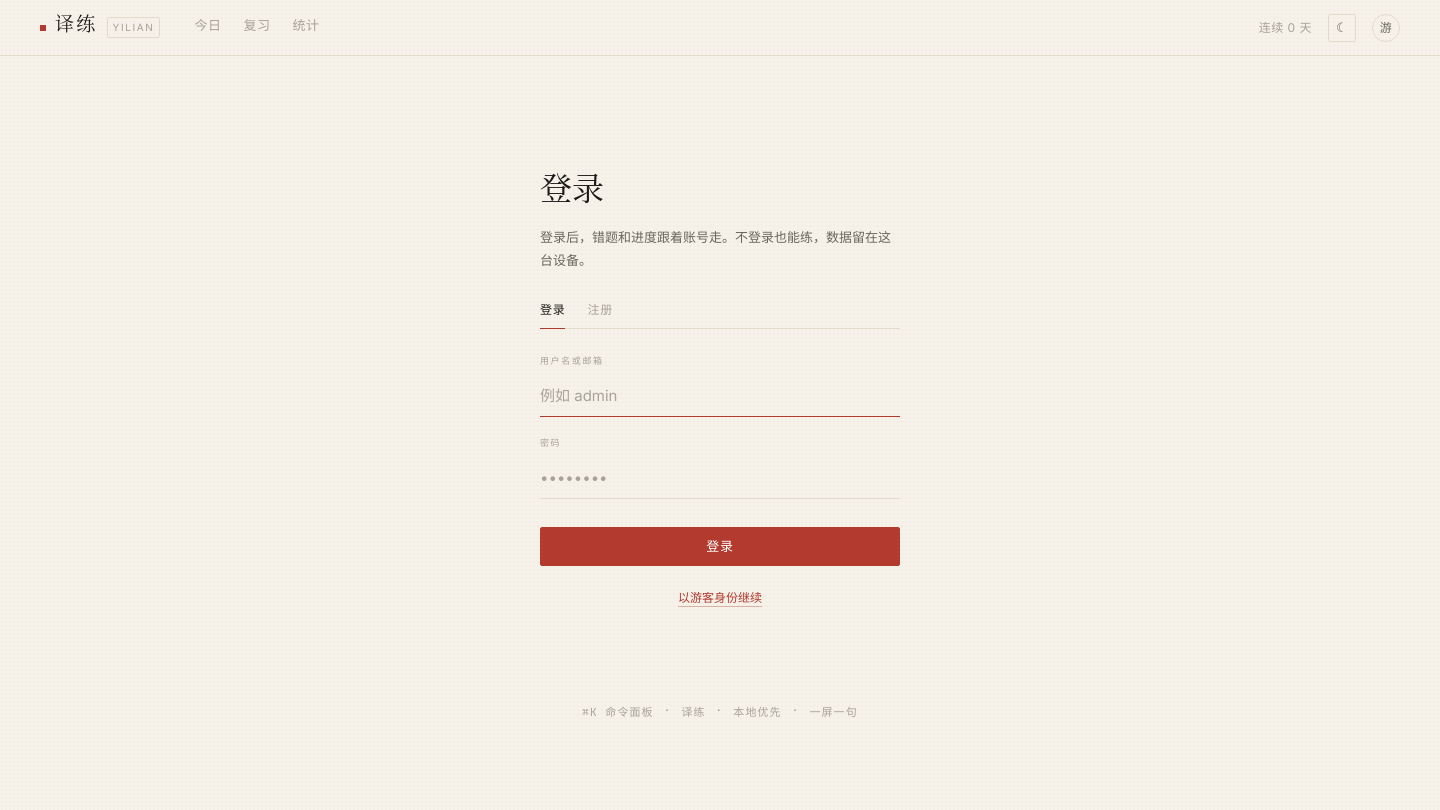
it: auth flow › shows the server message when login fails
Step 1. Type "admin" into the field labelled "用户名或邮箱" → (720, 397), box [540, 377, 900, 417]
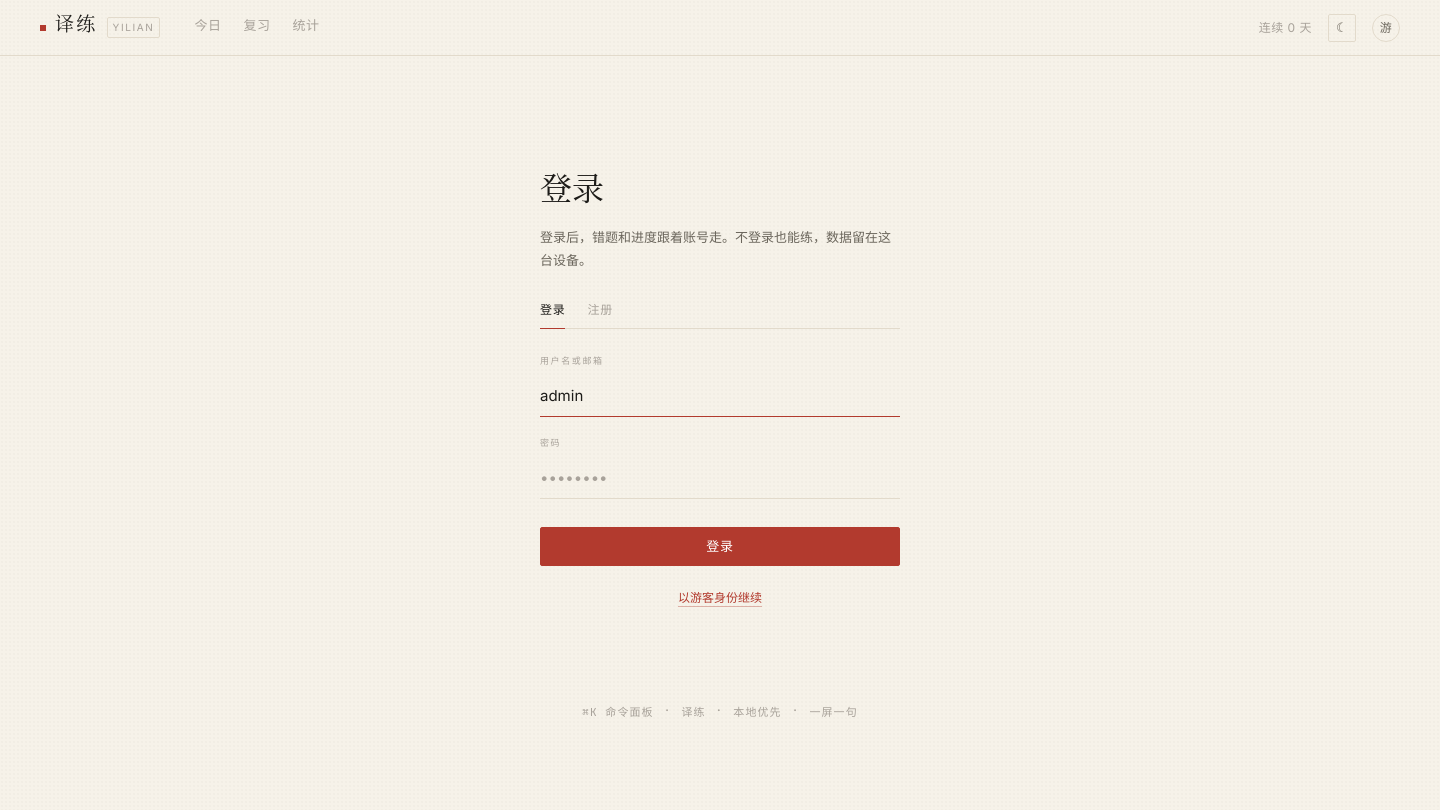
Step 2. Type "wrong-password" into the password field labelled "密码" → (720, 479), box [540, 459, 900, 499]
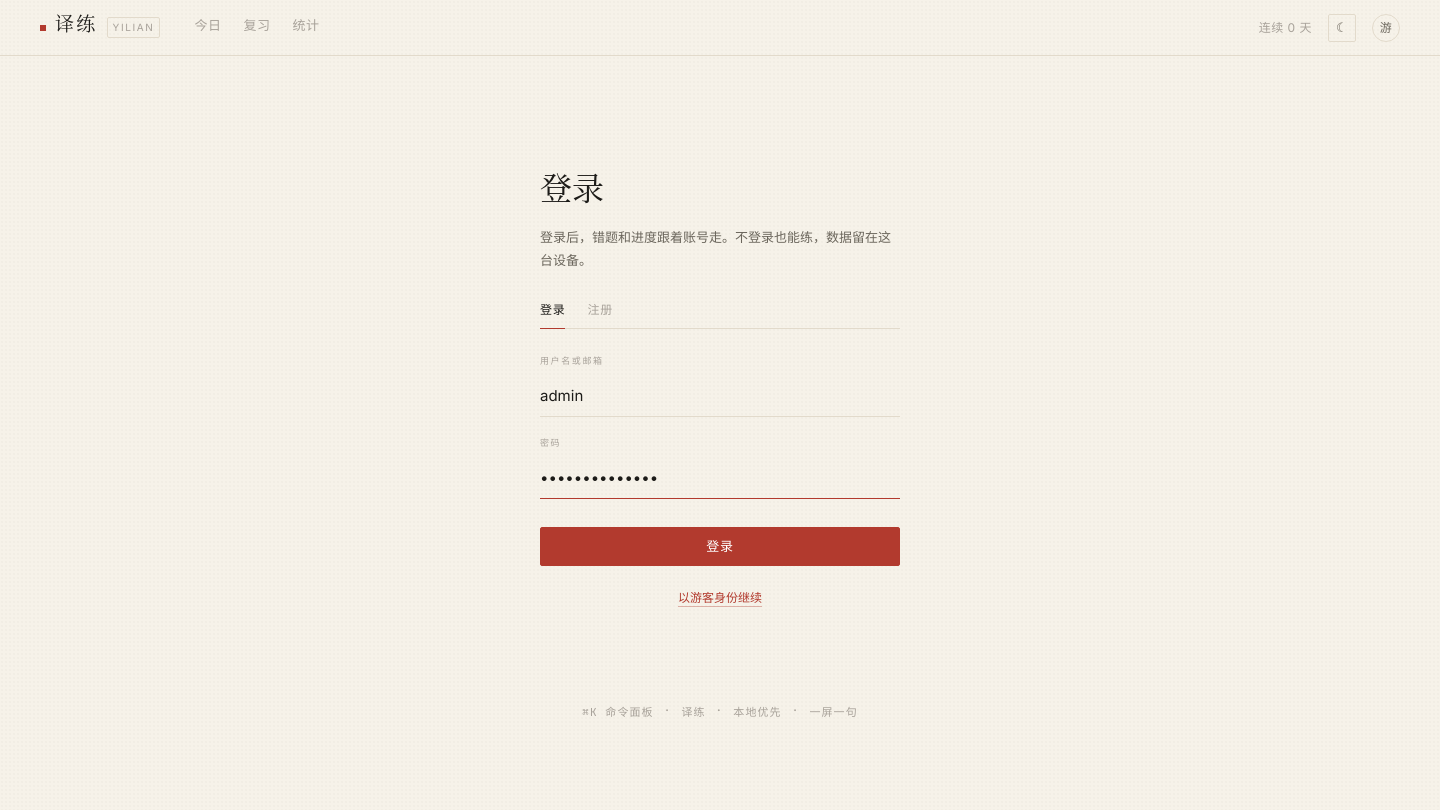
Step 3. Click the button "登录" → (720, 547), box [540, 527, 900, 566]
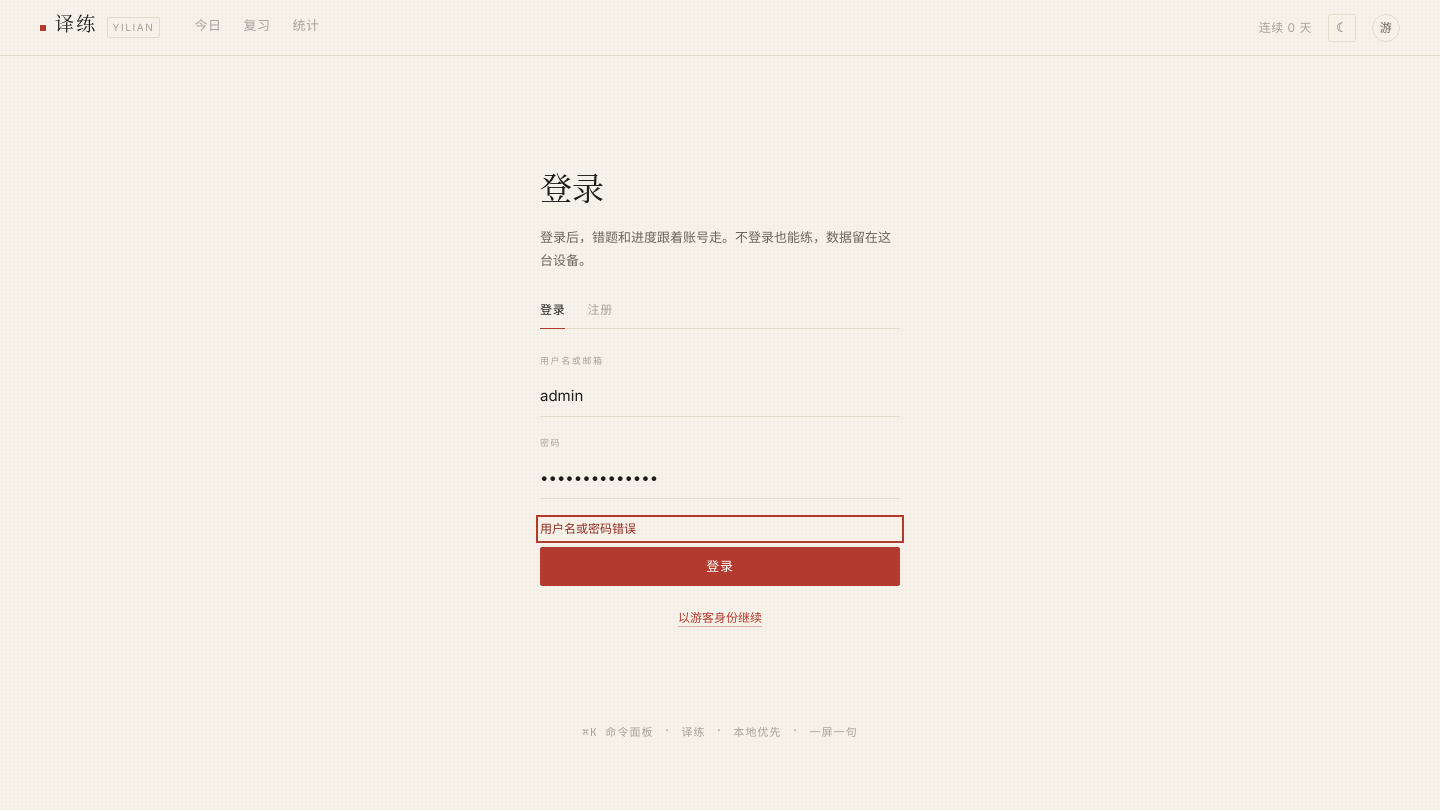
Now the message reads "用户名或密码错误", box [540, 521, 636, 536]
